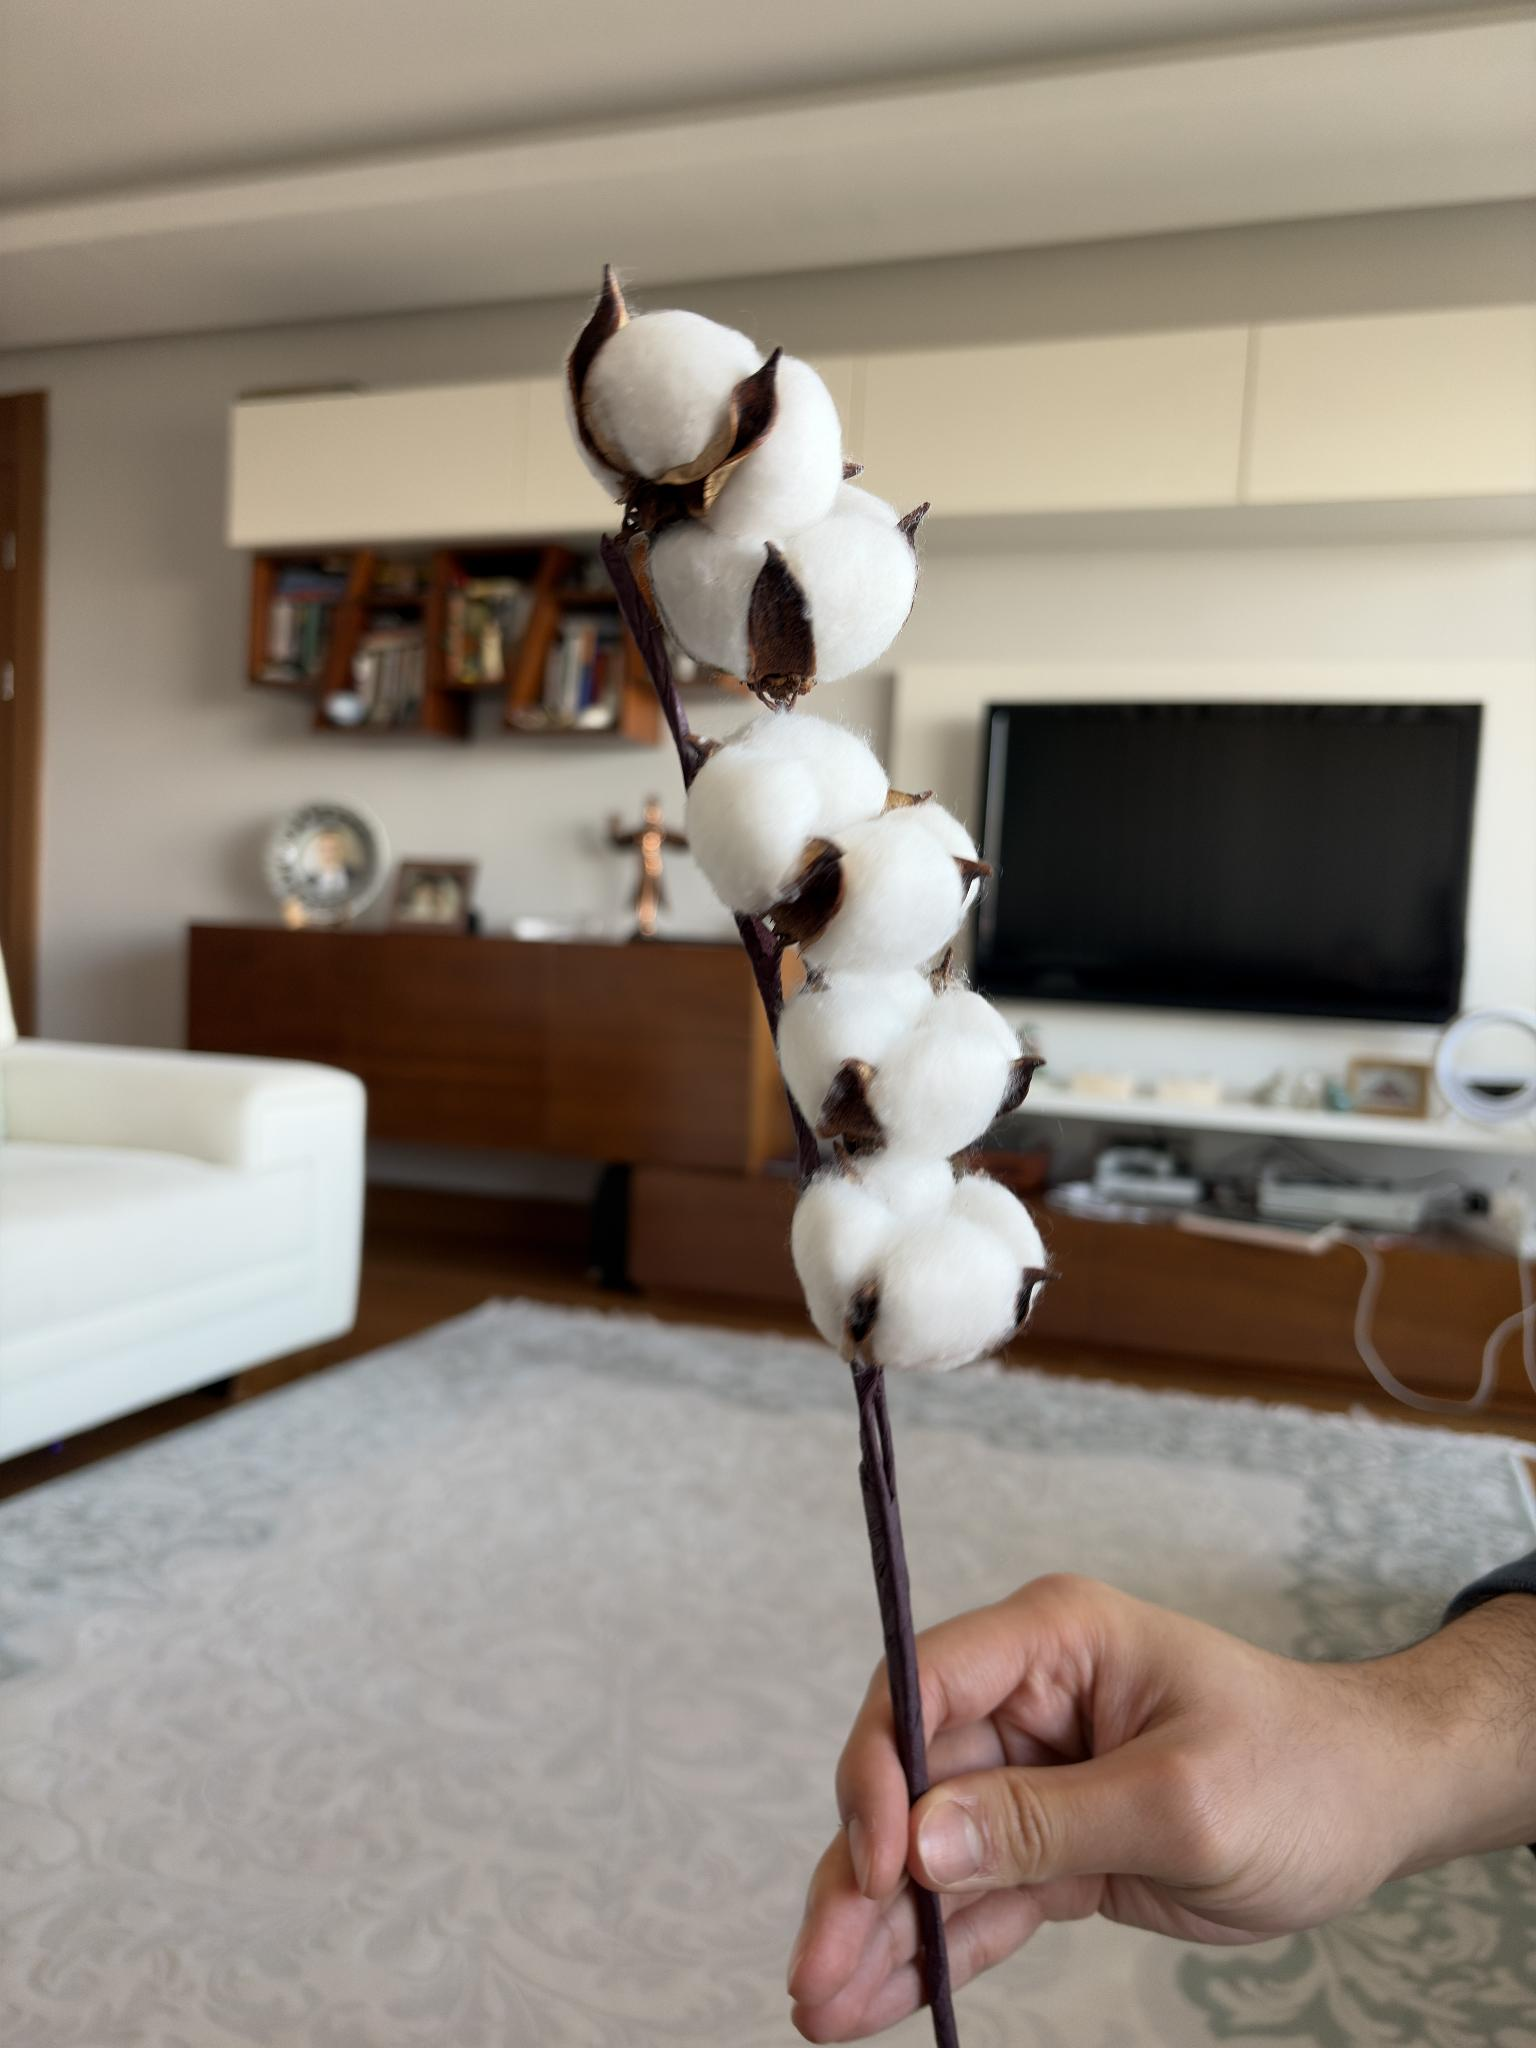cotton_boll: (791, 1155, 1046, 1372), (686, 711, 887, 914), (584, 310, 762, 479), (803, 803, 971, 974), (863, 992, 1028, 1158), (787, 482, 916, 681), (778, 969, 936, 1122), (713, 353, 842, 540), (791, 1169, 895, 1347), (649, 521, 766, 674), (952, 1174, 1044, 1269), (842, 1148, 954, 1219), (895, 793, 978, 861), (957, 856, 991, 911)
cotton_boll-cluster: (541, 250, 949, 710), (650, 698, 1002, 976), (770, 1163, 1075, 1376), (768, 955, 1057, 1158)
